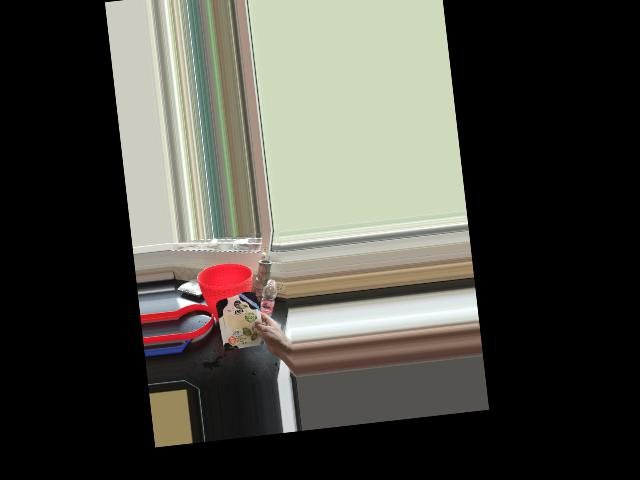cheese: (215, 289, 274, 346)
